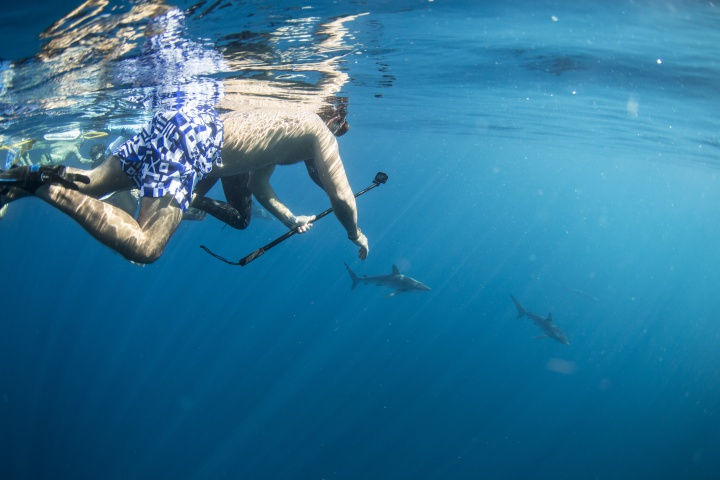Sedoso: (333, 256, 437, 303)
